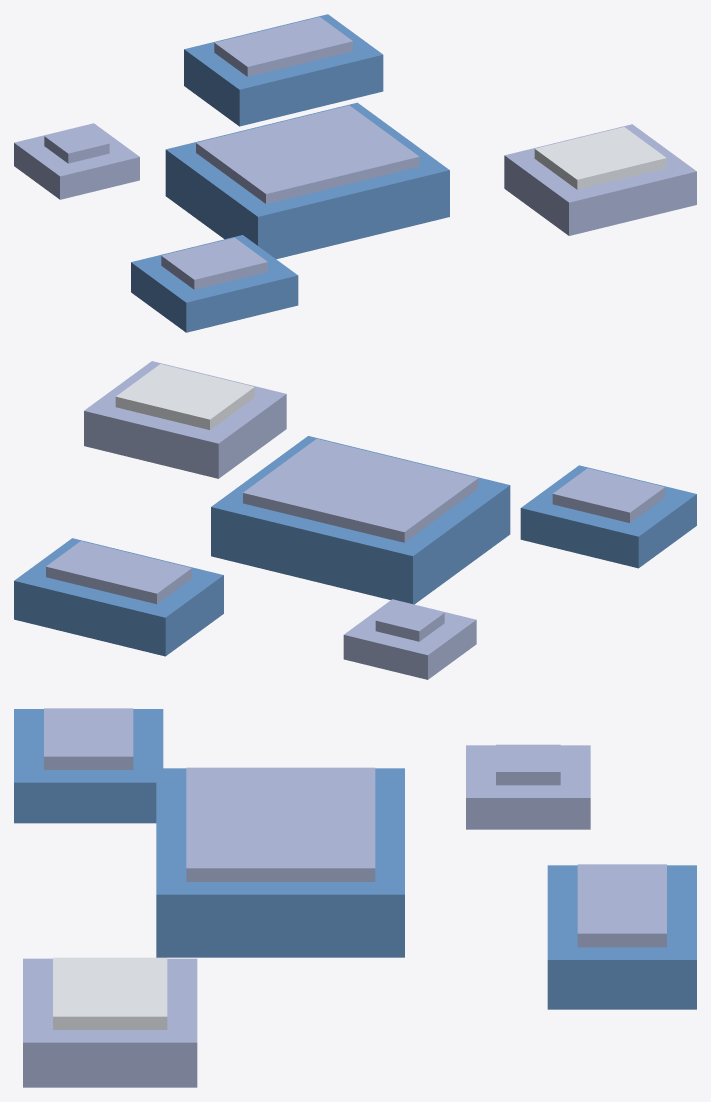
File: IceFlatStones.glb
3 views of the same model, one above another, from view 1: azimuth 30°, elevation 25°; view 2: azimuth 150°, elevation 25°; view 3: azimuth 270°, elevation 25° (orthographic). The views are drawn at different scales.
Visible parts, largest first — view 1: IceFlatStones; view 2: IceFlatStones; view 3: IceFlatStones.
Part boxes in pixels (<box>): IceFlatStones: <box>14,14,696,332</box>; IceFlatStones: <box>14,361,696,679</box>; IceFlatStones: <box>14,708,696,1087</box>.
Bounding box in the file's own units: 16.08 × 1.7 × 13.73.
1 material, 1 textured.
